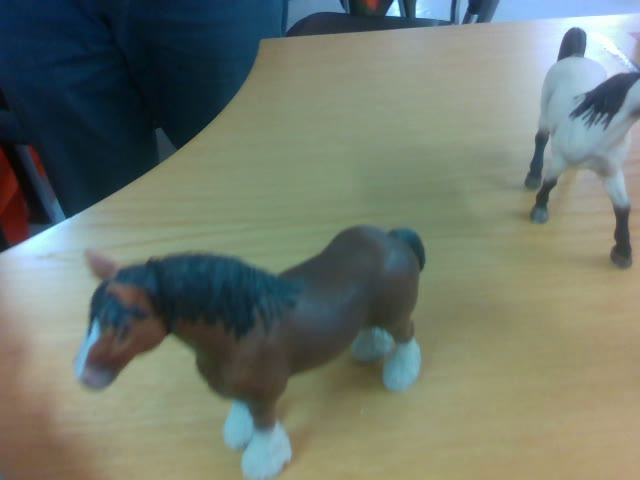toy: (74, 226, 425, 480)
